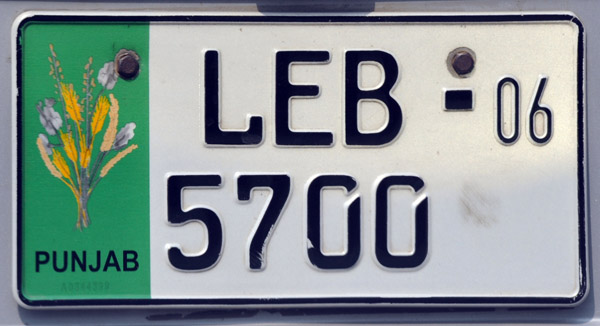0: (303, 171, 367, 273), (371, 171, 434, 272), (491, 72, 525, 145)
5: (161, 170, 231, 275)
6: (525, 71, 558, 146)
7: (232, 169, 294, 273)
B: (341, 48, 405, 149)
E: (272, 45, 336, 148)
L: (196, 45, 269, 152)
